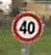limite 40: (11, 9, 44, 43)
